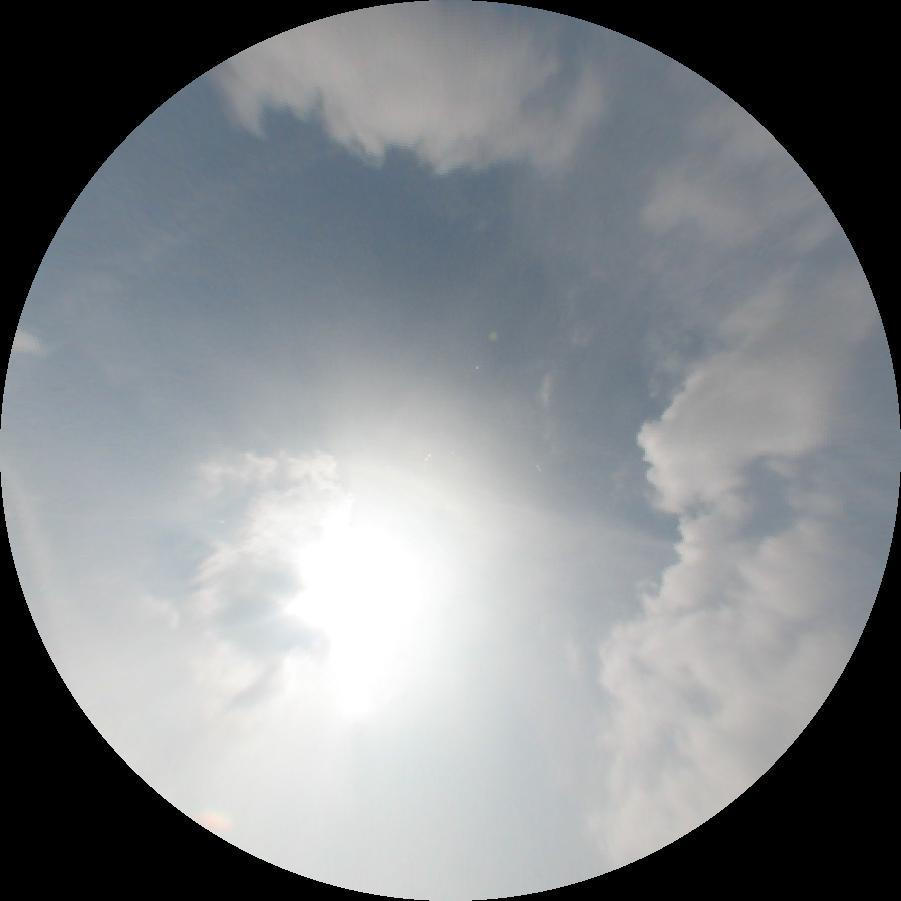sun: (235, 494, 469, 728)
